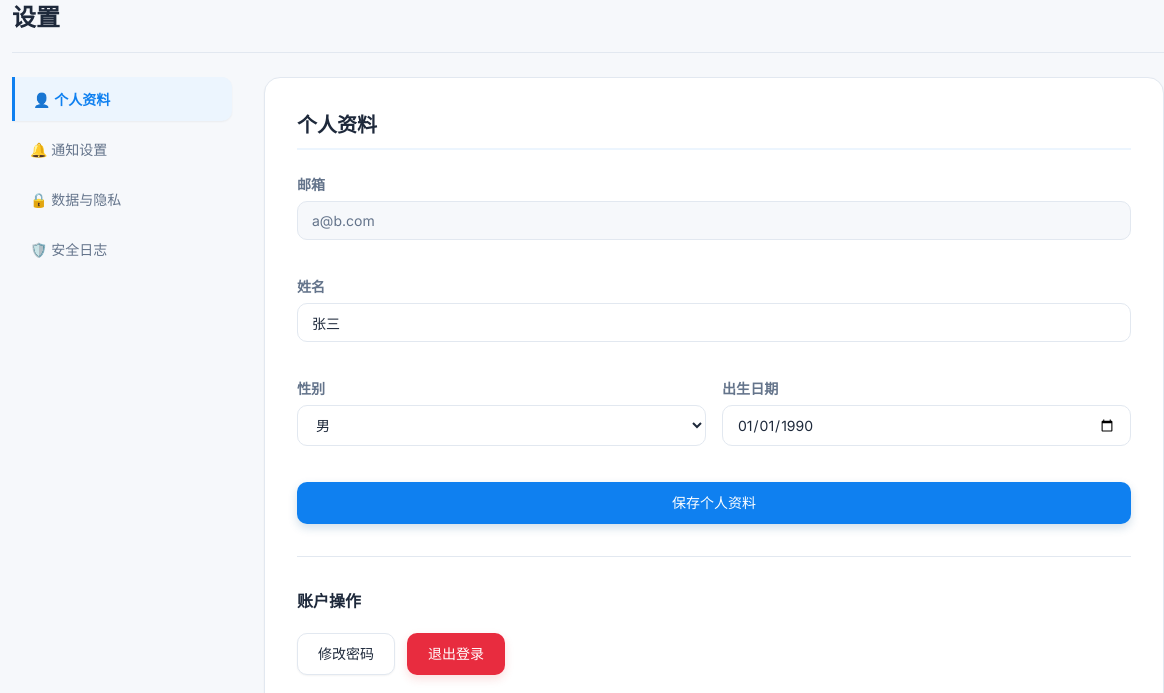
Scenario: Settings › 修改密码 › 后端返回 ApiError 时显示后端 message
Click the button "修改密码".
click(346, 654)  # box [297, 633, 395, 675]
(page scrolled)
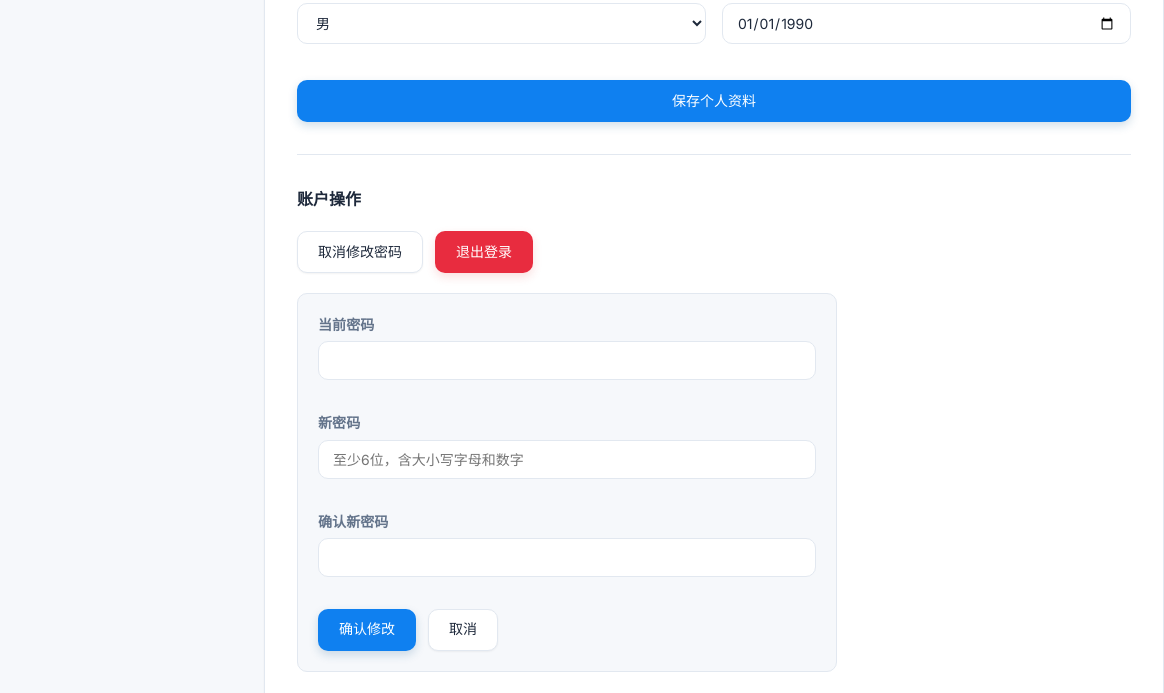
Type "WrongOld1!" into the password field below "当前密码".
click(567, 361); type("WrongOld1!")  # box [318, 341, 816, 380]
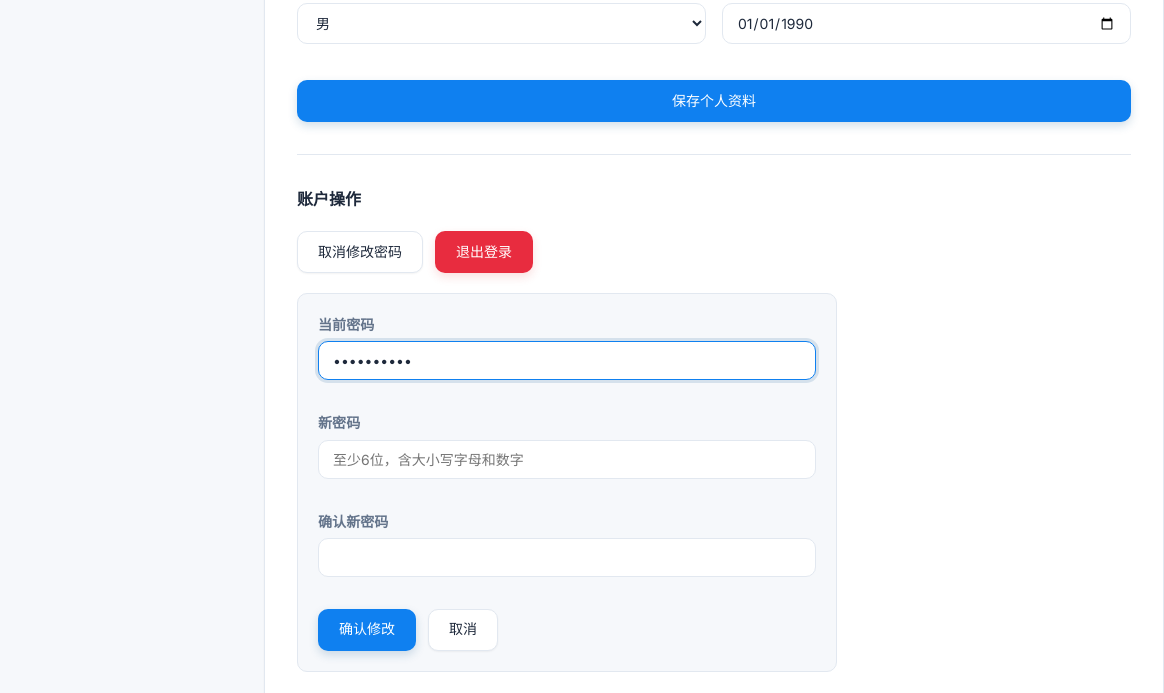
Type "NewPass1!" into the password field with placeholder "至少6位，含大小写字母和数字".
click(567, 459); type("NewPass1!")  # box [318, 440, 816, 478]
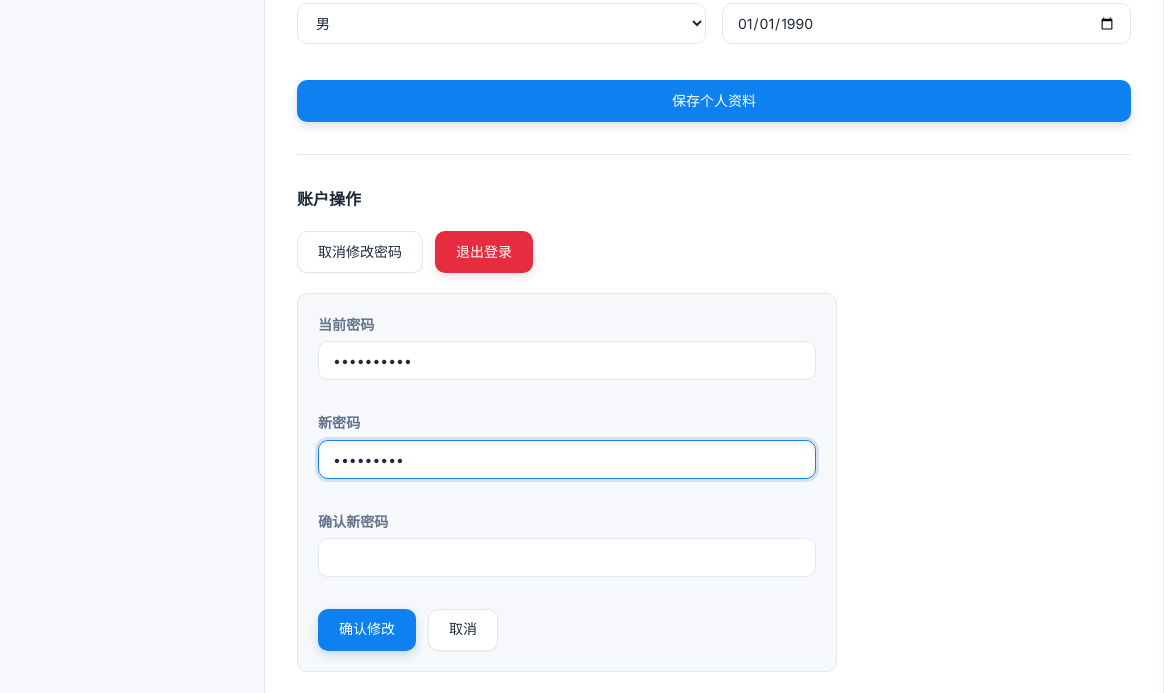
Type "NewPass1!" into the password field below "确认新密码".
click(567, 557); type("NewPass1!")  # box [318, 538, 816, 577]
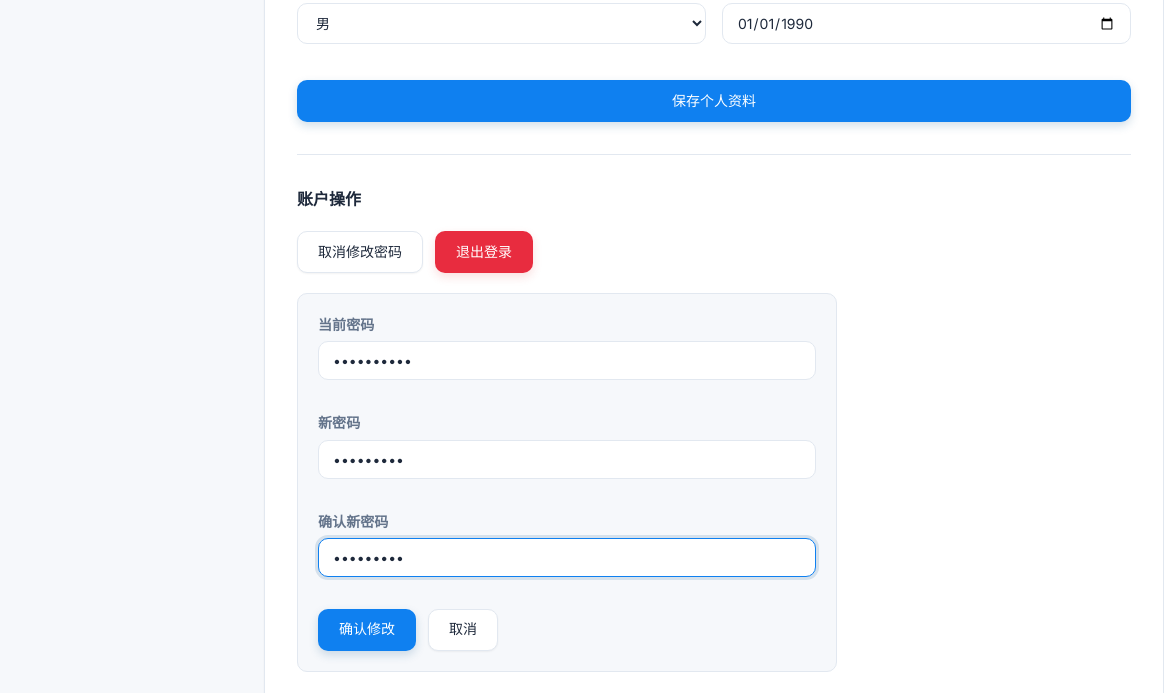
Click the button "确认修改".
click(367, 630)  # box [318, 609, 416, 651]
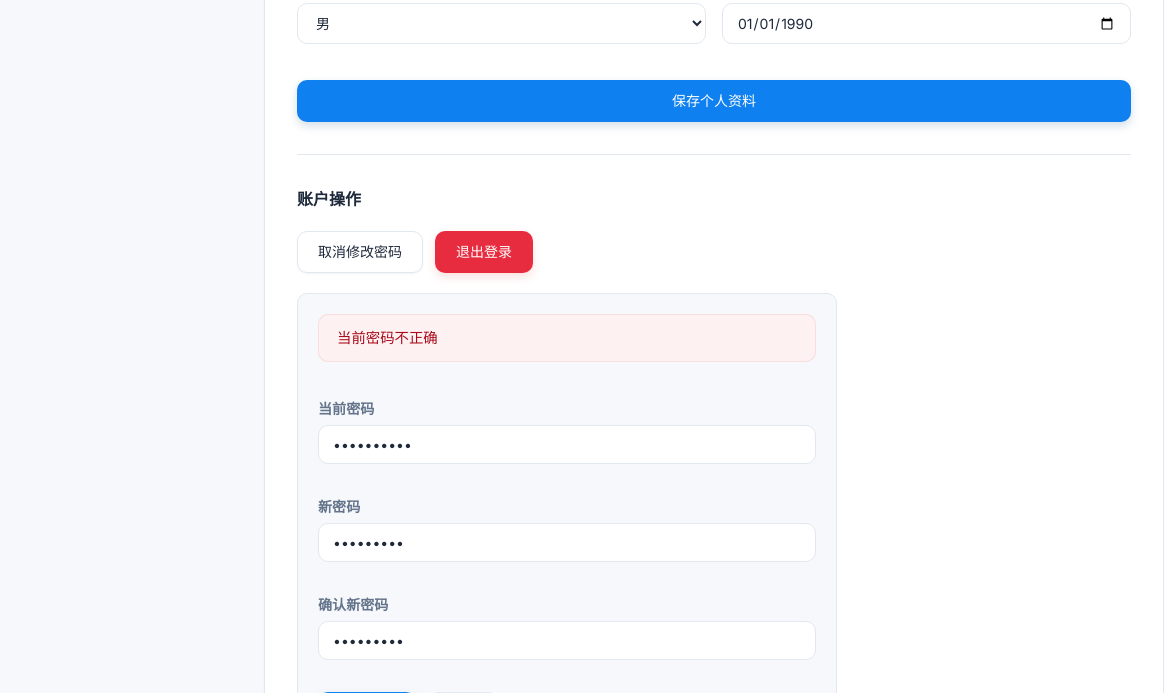
Now the text "当前密码不正确" is shown, box [318, 314, 816, 362]
